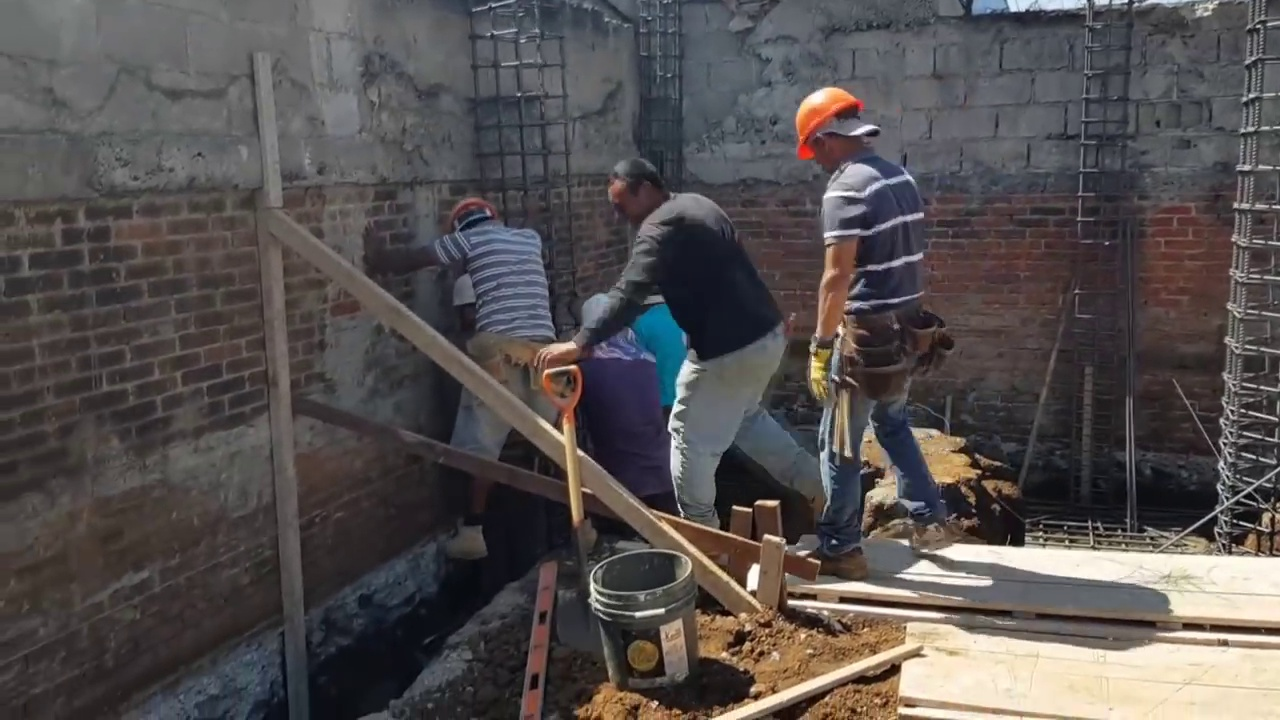helmet: (793, 90, 861, 161), (445, 192, 496, 229)
helmet-off: (605, 157, 664, 221)
helmet-on: (792, 86, 881, 178), (445, 192, 496, 234)
person: (590, 156, 797, 563), (415, 187, 580, 587), (807, 94, 944, 561)
